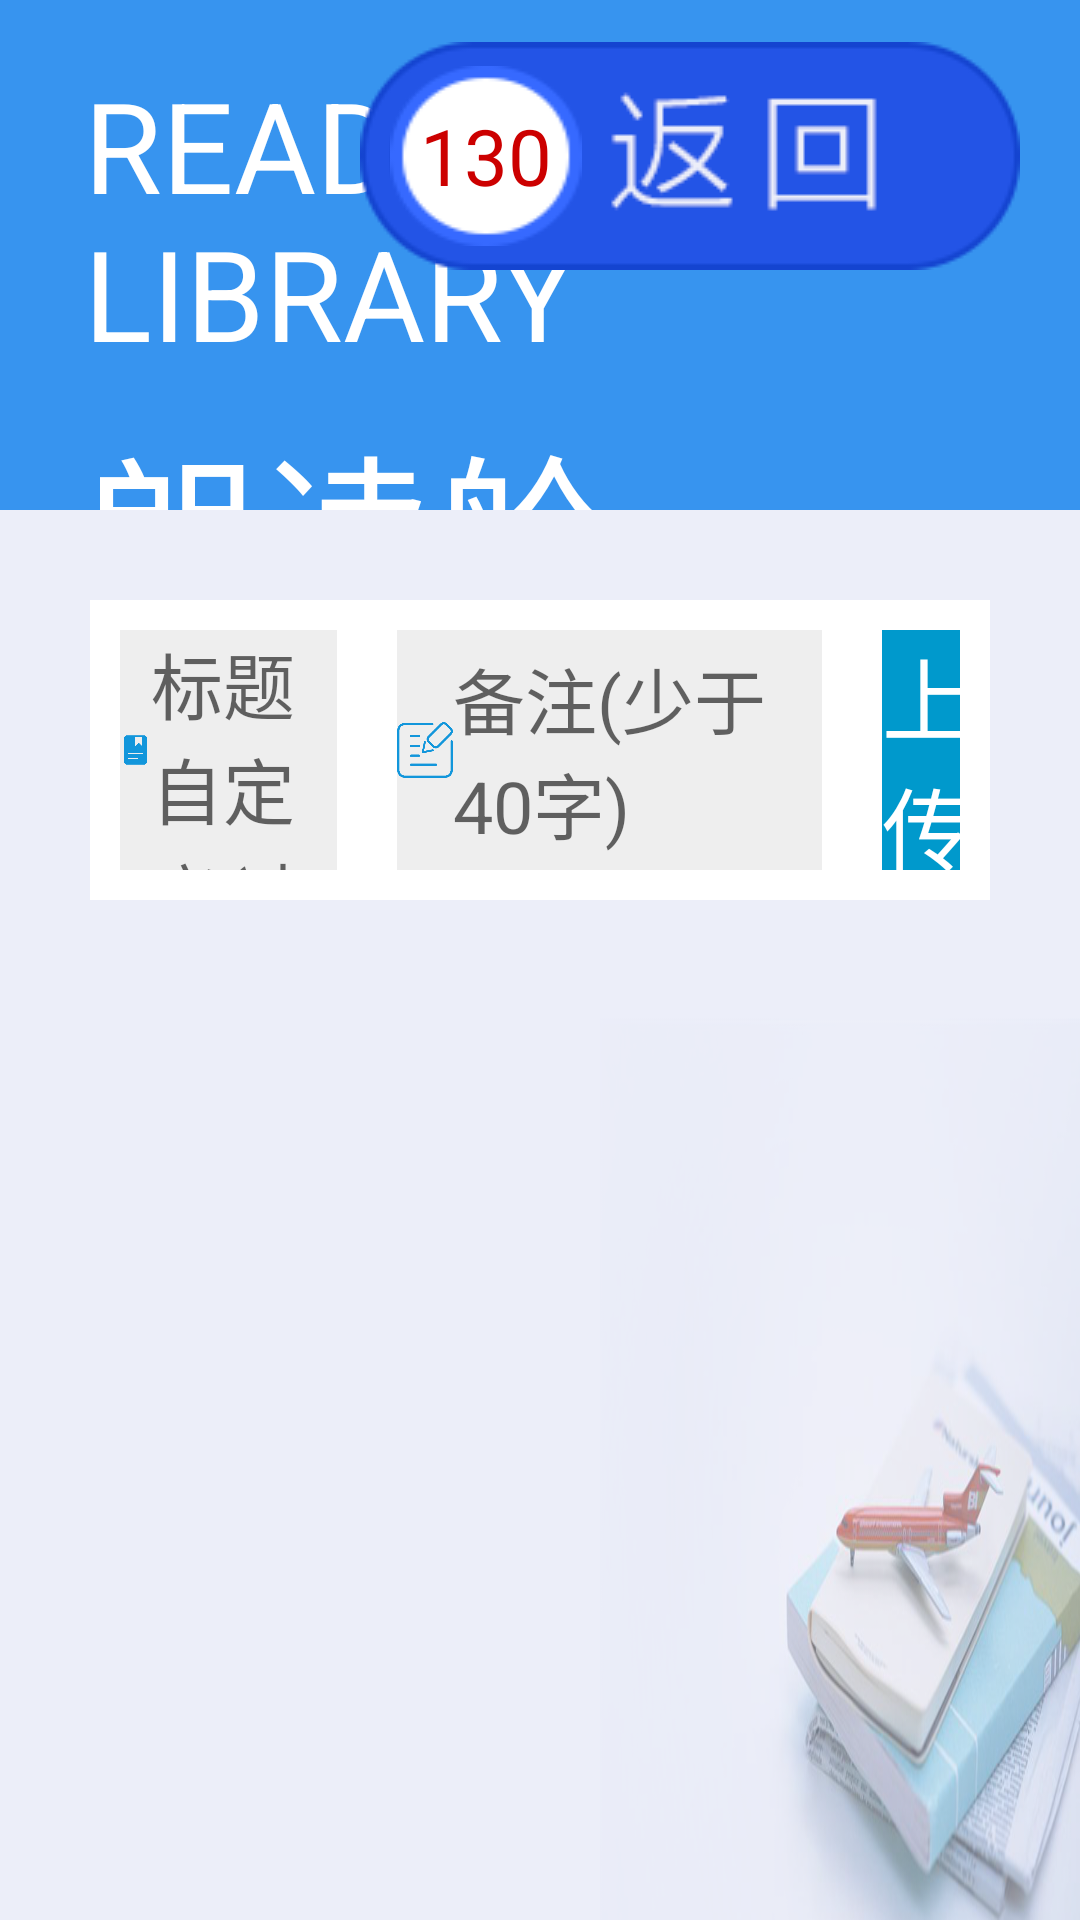

Where to tap for icons on this 1080px×1920px app screen, as point (x, y):
book title: point (135, 750)
note: point (425, 750)
